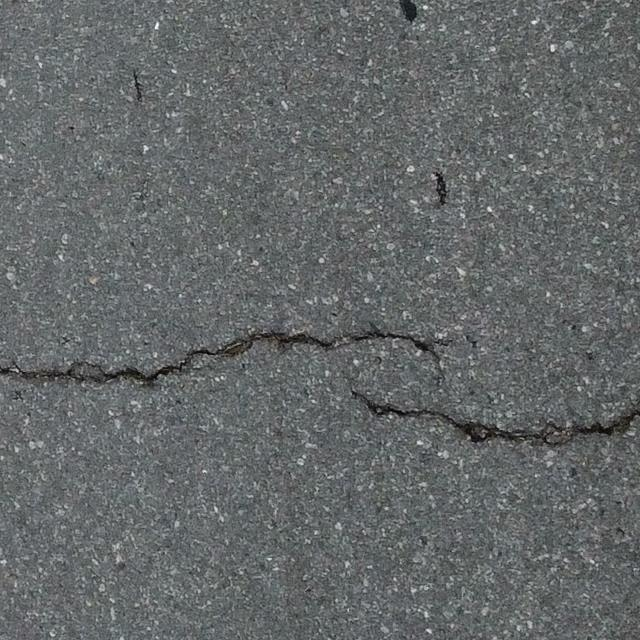TransverseCrack: (1, 320, 440, 391), (347, 388, 640, 447)
